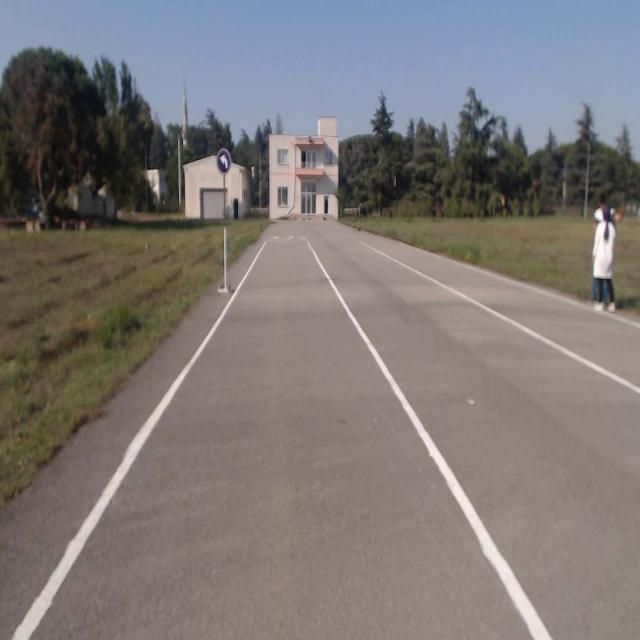sol: (216, 148, 230, 174)
